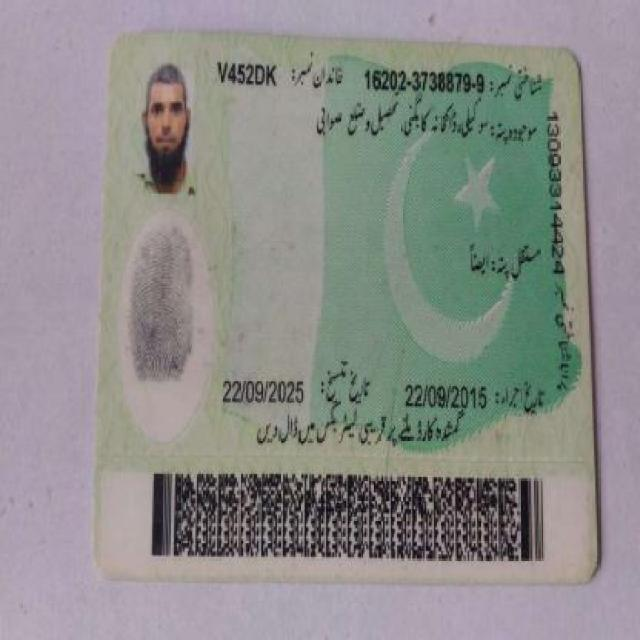Back: (96, 28, 602, 582)
